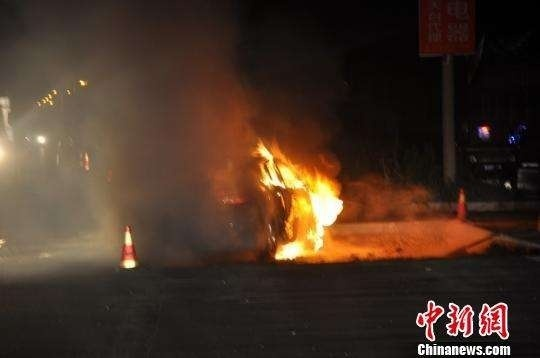fire: (253, 136, 347, 261), (118, 225, 136, 270)
